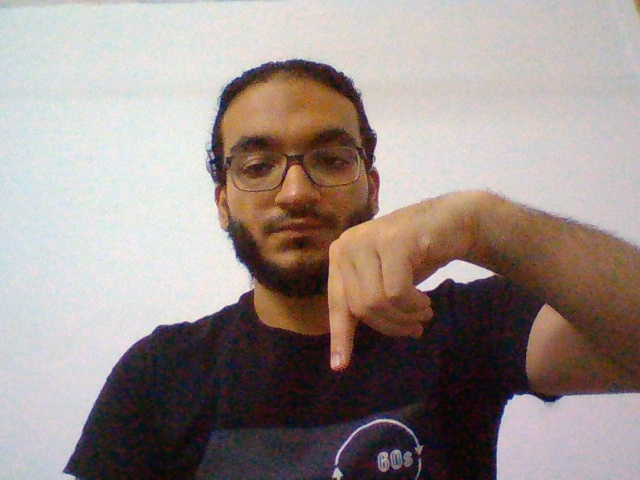Yes: (320, 182, 498, 368)
